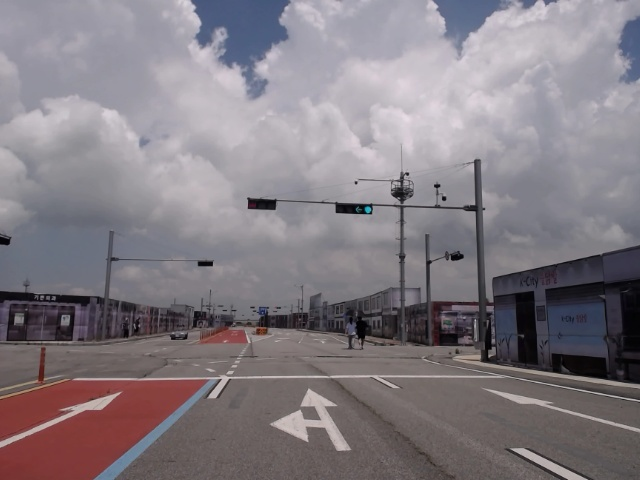all_green_4: (335, 204, 372, 213)
